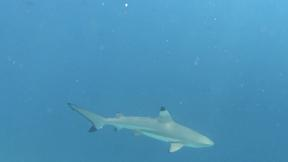Shark -Selachimorpha-: (62, 97, 220, 158)
